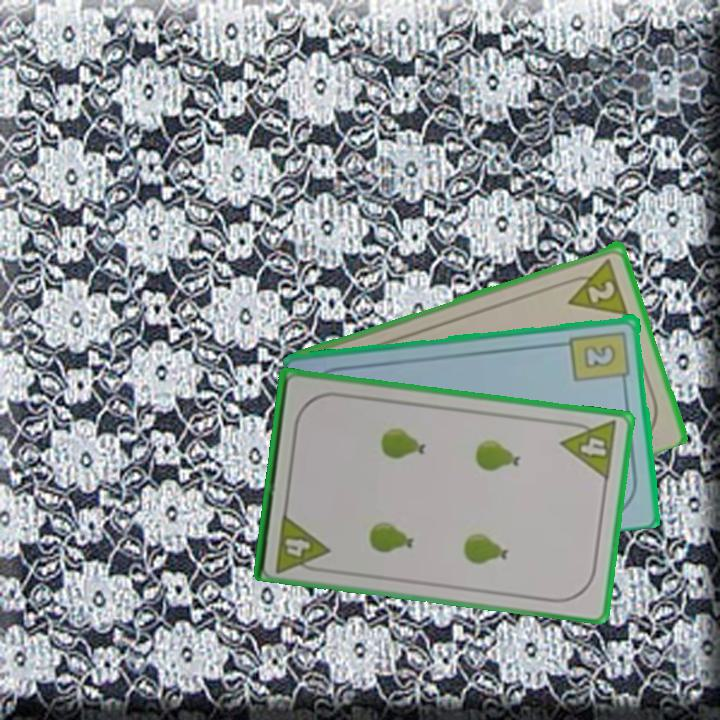2b: (567, 327, 633, 389)
2p: (584, 276, 618, 305)
4p: (557, 416, 621, 483), (271, 509, 332, 575)
